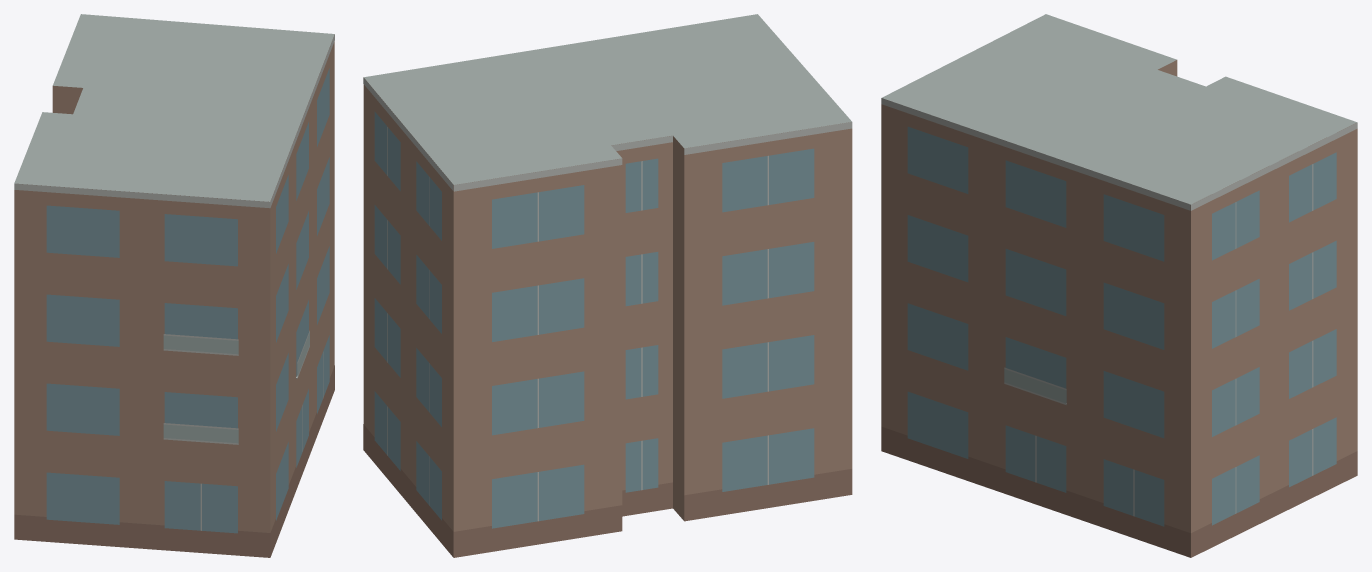
File: survey-upis-32620893.glb
3 renders of one model, left to right at view 1: azimuth 30°, elevation 25°; view 2: azimuth 150°, elevation 25°; view 3: azimuth 270°, elevation 25°, orthographic. The views are drawn at different scales.
Parts seen in each view (by area): view 1: survey-upis-32620893.tmp; view 2: survey-upis-32620893.tmp; view 3: survey-upis-32620893.tmp.
Boxes of the visible parts, x1,y1,x2,y2 form: survey-upis-32620893.tmp: (14, 14, 334, 557); survey-upis-32620893.tmp: (363, 14, 852, 557); survey-upis-32620893.tmp: (881, 14, 1357, 557).
Bounding box in the file's own units: 15.86 × 13.7 × 16.74.
